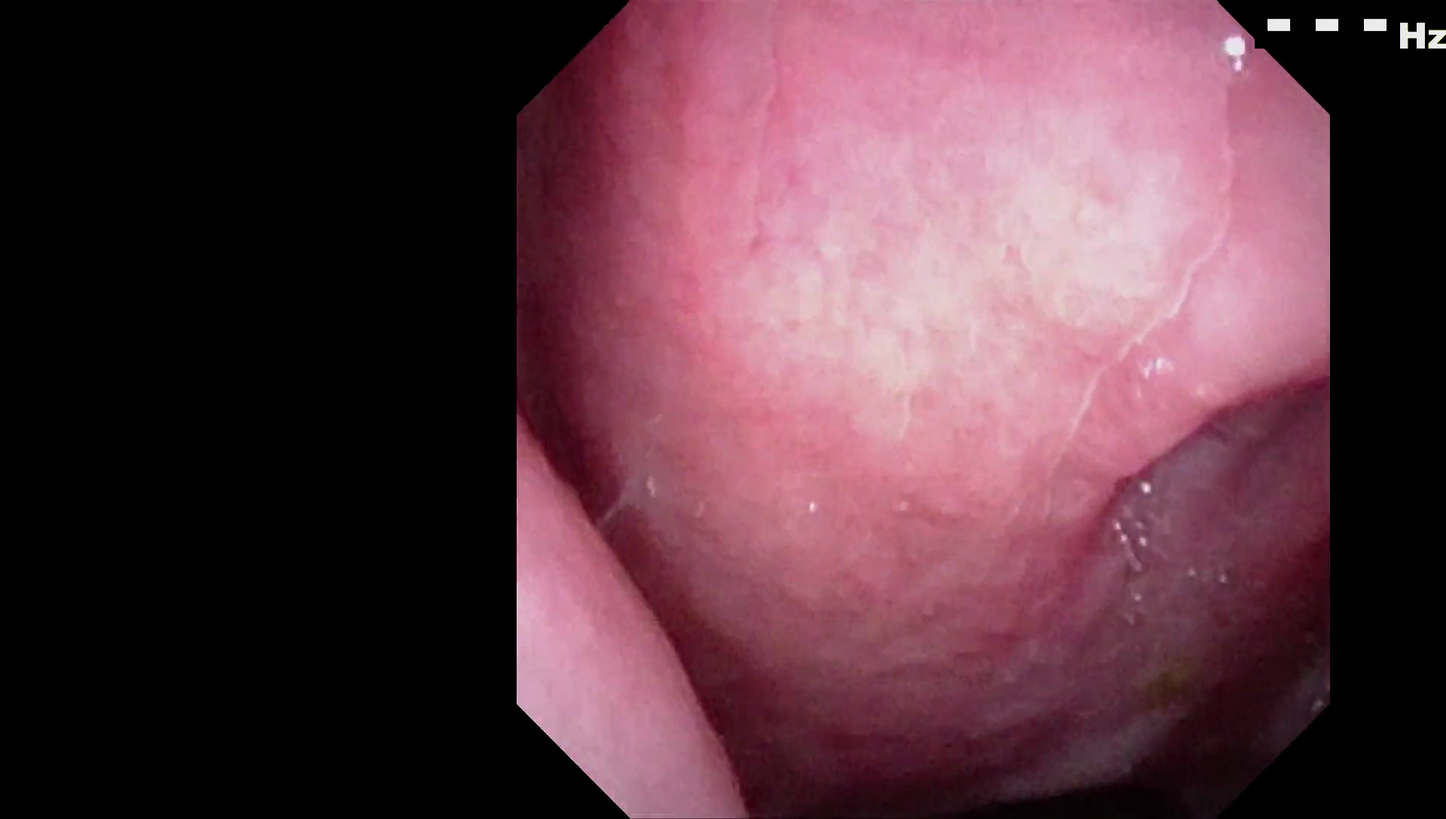close_wall: (725, 56, 1267, 537)
next: (920, 671, 1260, 819)
